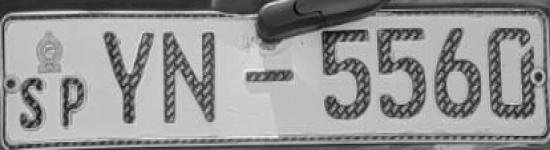-: (239, 63, 301, 91)
0: (488, 19, 540, 128)
5: (312, 21, 376, 128), (376, 21, 433, 126)
6: (432, 19, 487, 129)
N: (160, 27, 228, 132)
P: (54, 75, 92, 130)
S: (17, 71, 50, 131)
Y: (97, 27, 158, 128)
